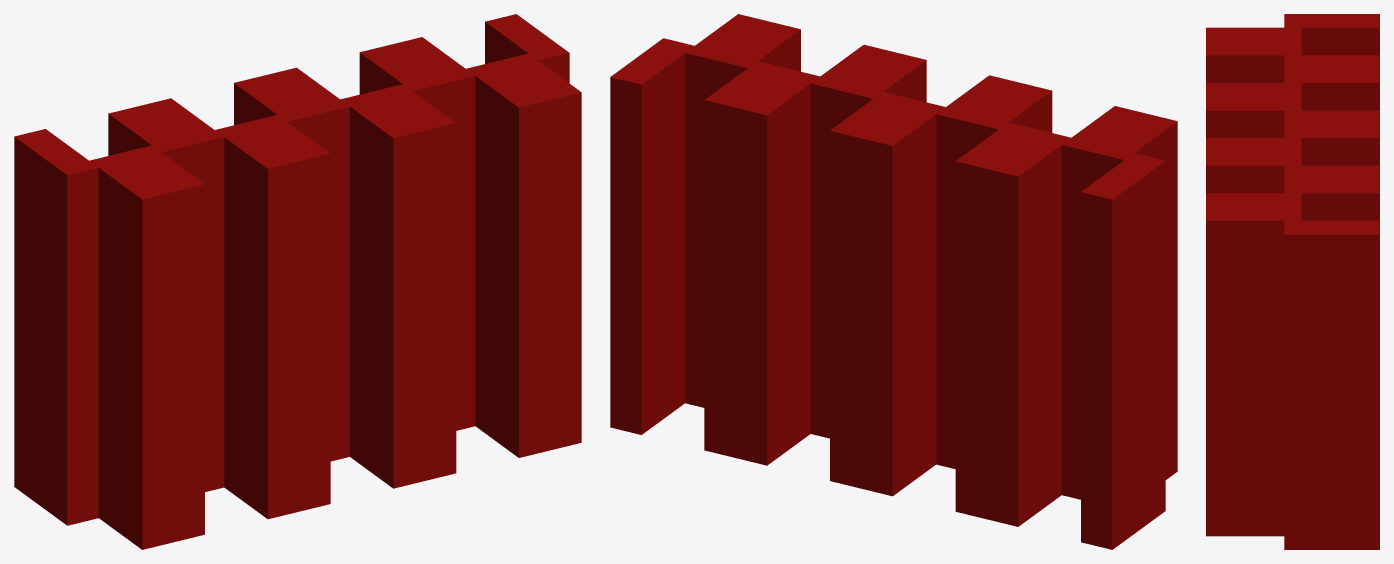
File: short.obj
The picture shows the model from 3 angles, left to right: view 1: azimuth 30°, elevation 25°; view 2: azimuth 150°, elevation 25°; view 3: azimuth 270°, elevation 25°; orthographic projection. The views are drawn at different scales.
Visible parts, largest first — view 1: short; view 2: short; view 3: short.
Boxes of the visible parts, x1,y1,x2,y2 form: short: (14,14,581,549); short: (610,14,1177,549); short: (1206,14,1379,549).
Bounding box in the file's own units: 300 × 200 × 100.
